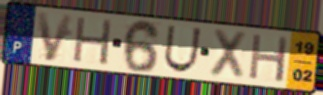6: (122, 18, 162, 74)
H: (247, 32, 292, 84), (71, 15, 116, 67)
U: (162, 23, 204, 74)
V: (34, 10, 77, 63)
X: (207, 27, 250, 82)
